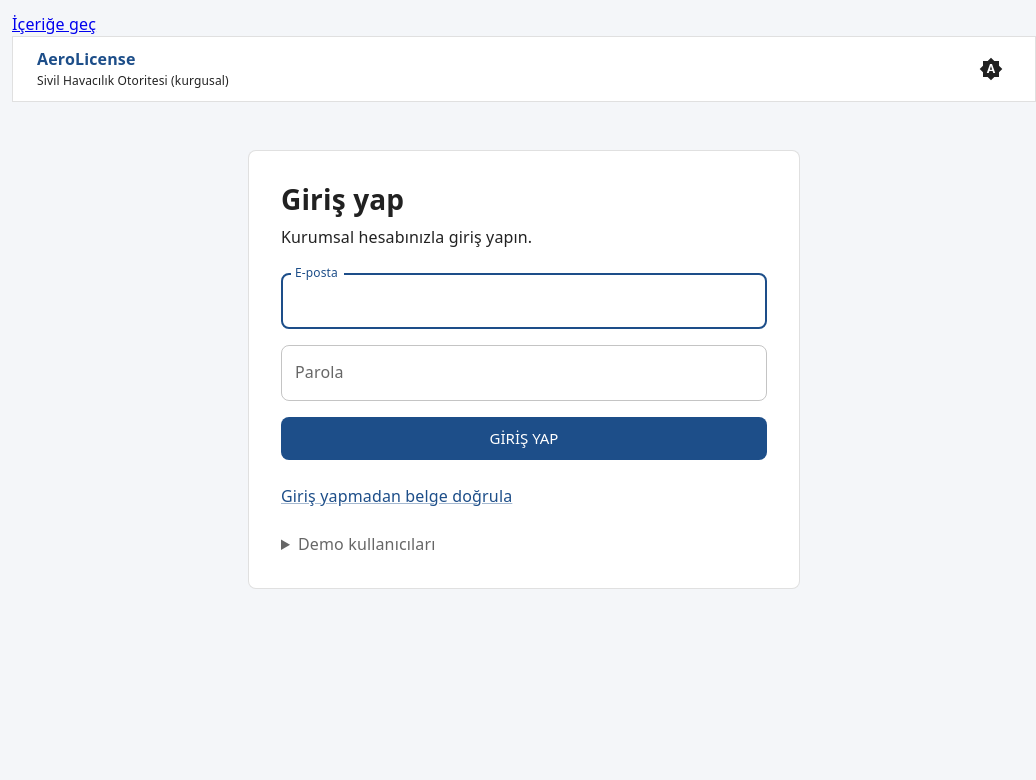
Giriş formu › 401 yanıtında backend mesajını gösterir
The width and height of the screenshot is (1036, 780).
Type "pilot1@aerolicense.test" into the field labelled "E-posta" at (524, 302), box [281, 274, 767, 330]
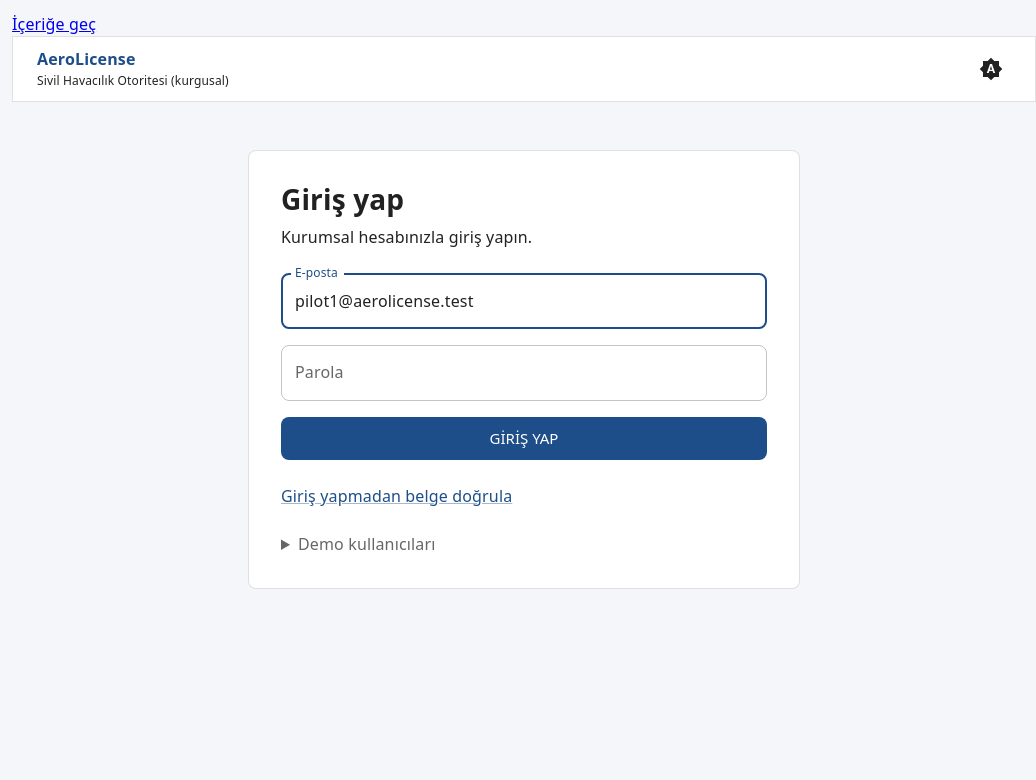
Type "yanlis" into the password field labelled "Parola" at (524, 374), box [281, 346, 767, 402]
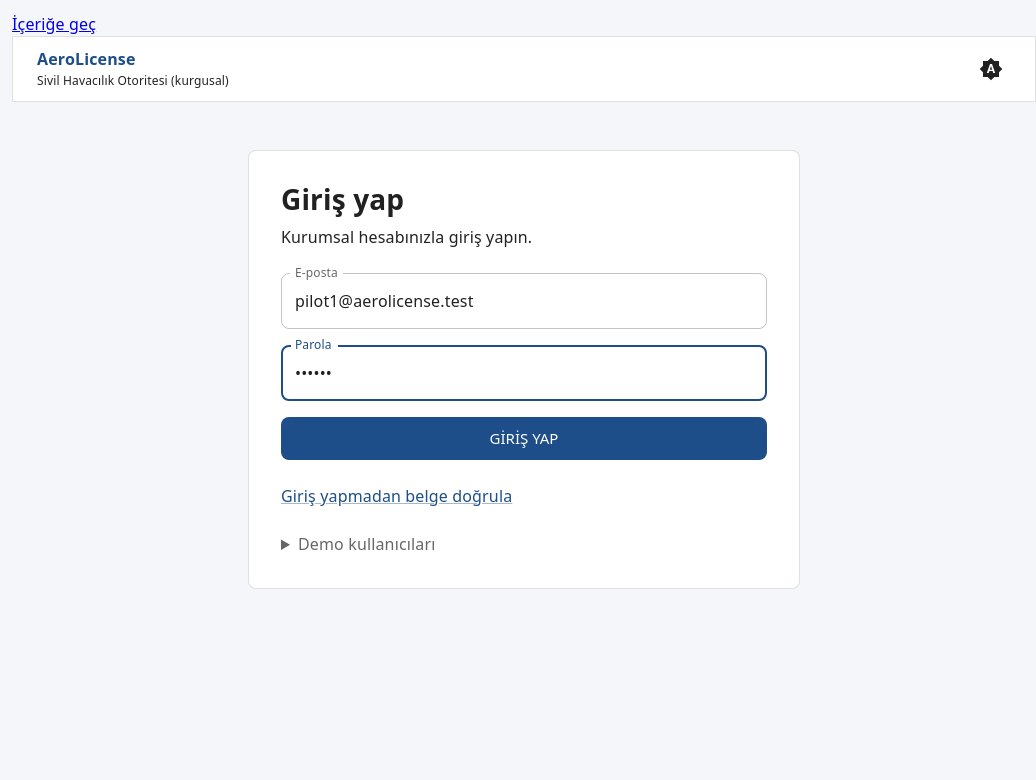
Click the button "Giriş yap" at (524, 439), box [281, 418, 767, 460]
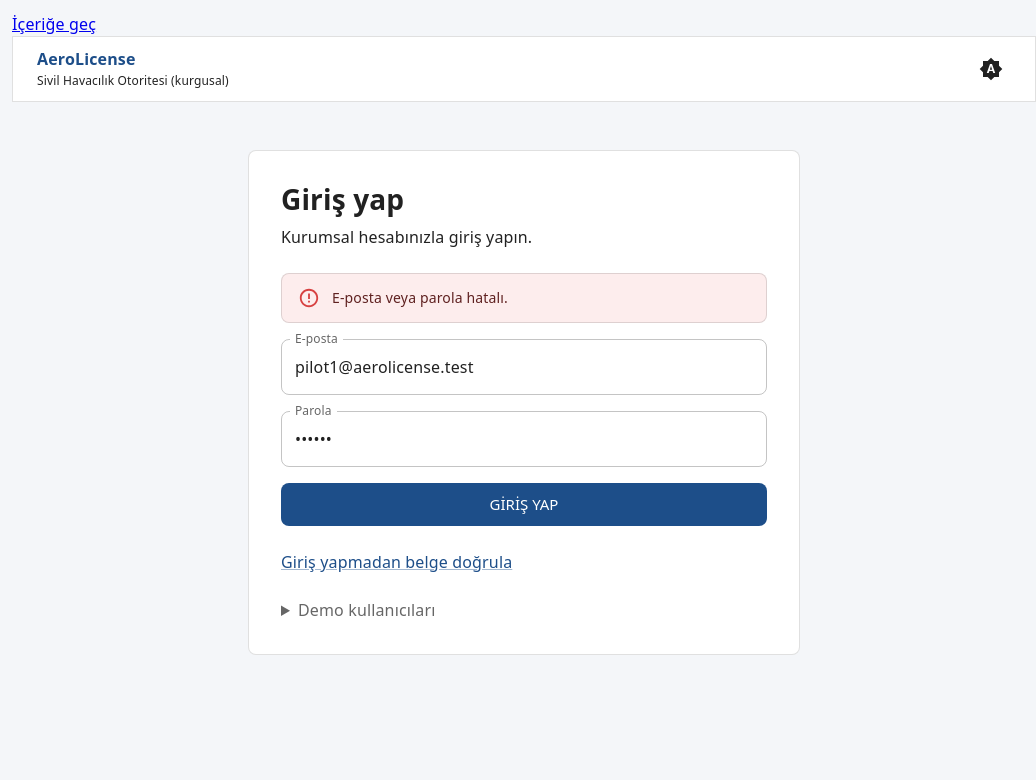
Check: the message reads "E-posta veya parola hatalı.", box [332, 288, 508, 308]
